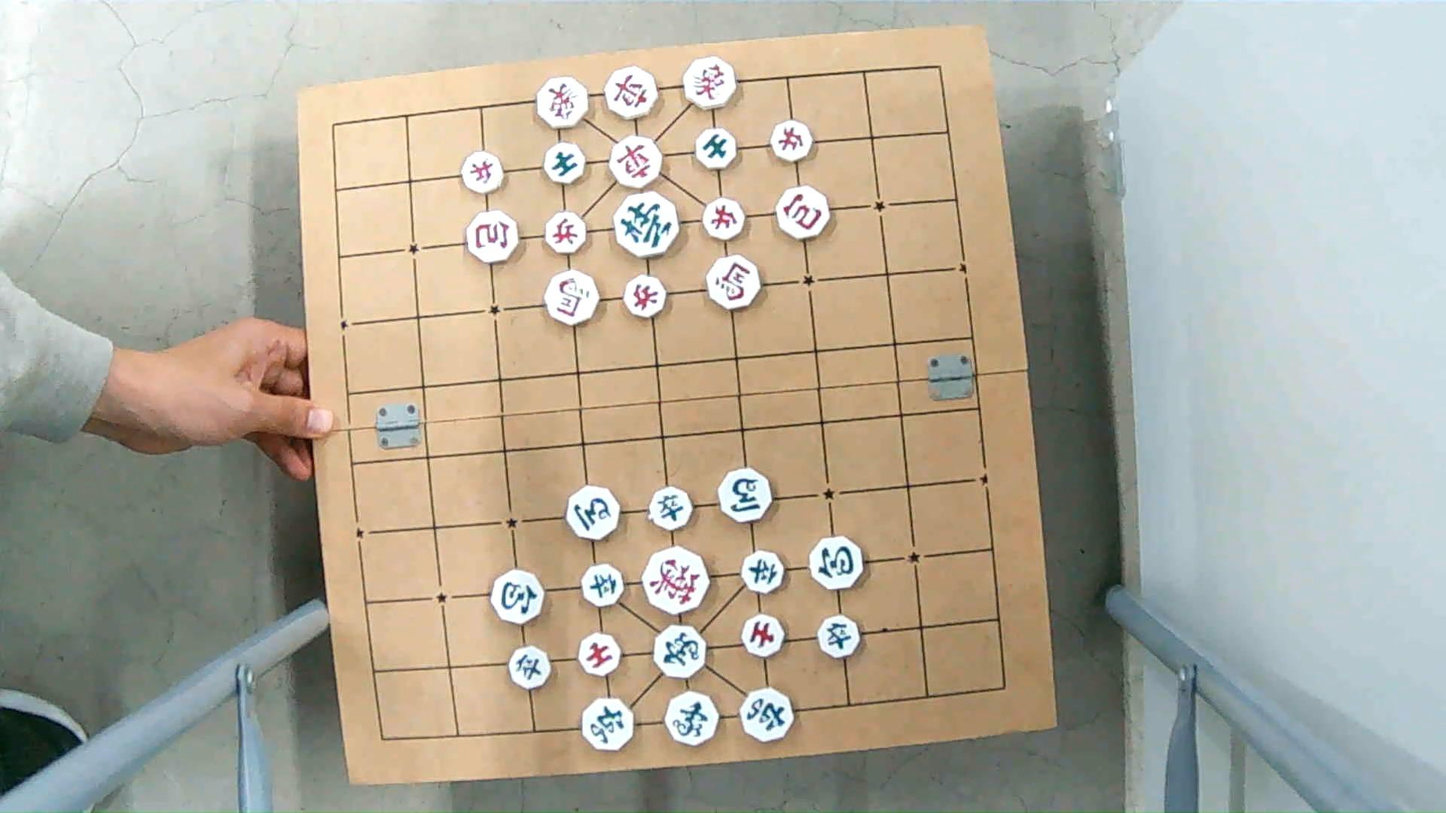cha_green: (580, 700, 635, 751), (743, 692, 798, 741)
cha_red: (608, 137, 663, 187), (606, 68, 657, 120)
jol_green: (581, 565, 626, 607), (818, 617, 864, 657), (739, 553, 785, 593), (508, 647, 553, 687), (648, 489, 693, 528)
jol_red: (698, 198, 745, 238), (623, 278, 668, 317), (462, 156, 506, 194), (772, 123, 814, 162), (545, 214, 588, 252)
ma_green: (718, 471, 775, 522), (564, 490, 619, 539)
ma_red: (705, 255, 759, 309), (545, 271, 599, 325)
po_green: (809, 540, 865, 590), (493, 572, 547, 623)
po_red: (467, 215, 521, 262), (777, 193, 831, 239)
sa_green: (696, 129, 740, 169), (543, 146, 587, 184)
sa_red: (737, 612, 786, 658), (576, 634, 621, 677)
sang_green: (666, 690, 722, 750), (651, 626, 706, 678)
sang_red: (680, 60, 737, 108), (535, 80, 590, 126)
wang_green: (615, 193, 680, 258)
wang_red: (644, 552, 712, 613)
